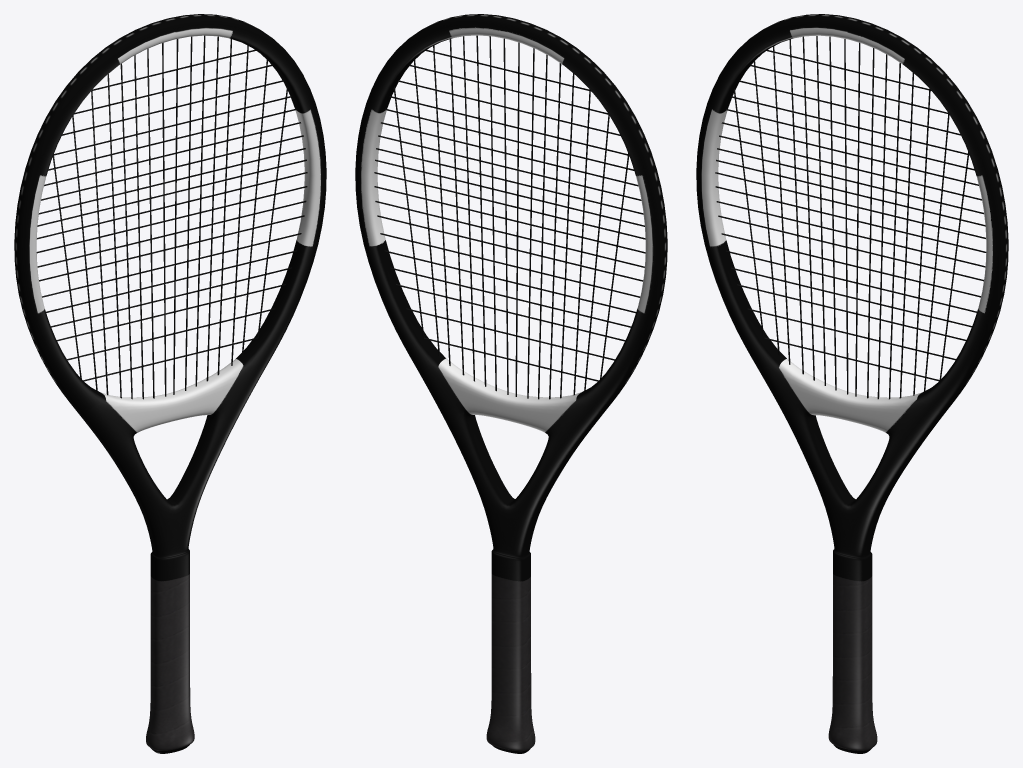
The model's file is racket2.glb.
The picture shows the model from 3 angles, left to right: view 1: azimuth 30°, elevation 25°; view 2: azimuth 150°, elevation 25°; view 3: azimuth 330°, elevation 25°; orthographic projection.
Parts seen in each view (by area): view 1: 10540_Tennis_racket_V2_L3; view 2: 10540_Tennis_racket_V2_L3; view 3: 10540_Tennis_racket_V2_L3.
Part boxes in pixels (<box>): 10540_Tennis_racket_V2_L3: <box>14,14,326,753</box>; 10540_Tennis_racket_V2_L3: <box>355,14,667,753</box>; 10540_Tennis_racket_V2_L3: <box>696,14,1008,753</box>.
Bounding box in the file's own units: 30.35 × 68.68 × 2.93.
1 material, 1 textured.
